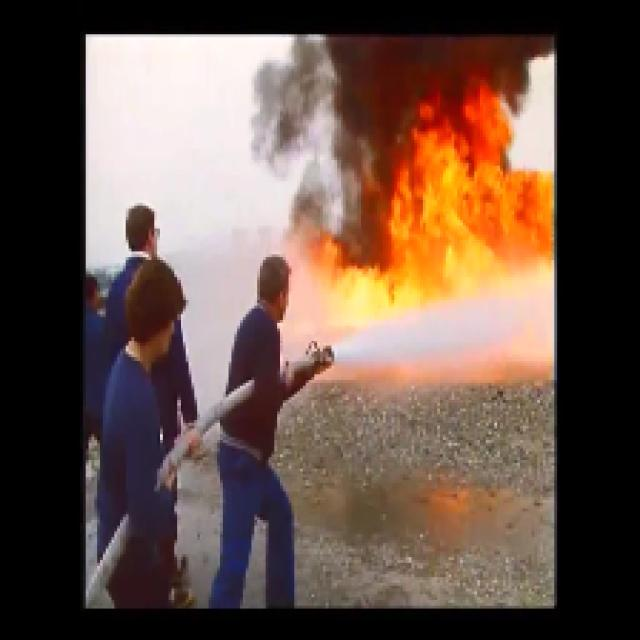fire: (404, 138, 546, 263)
smoke: (339, 34, 514, 116)
